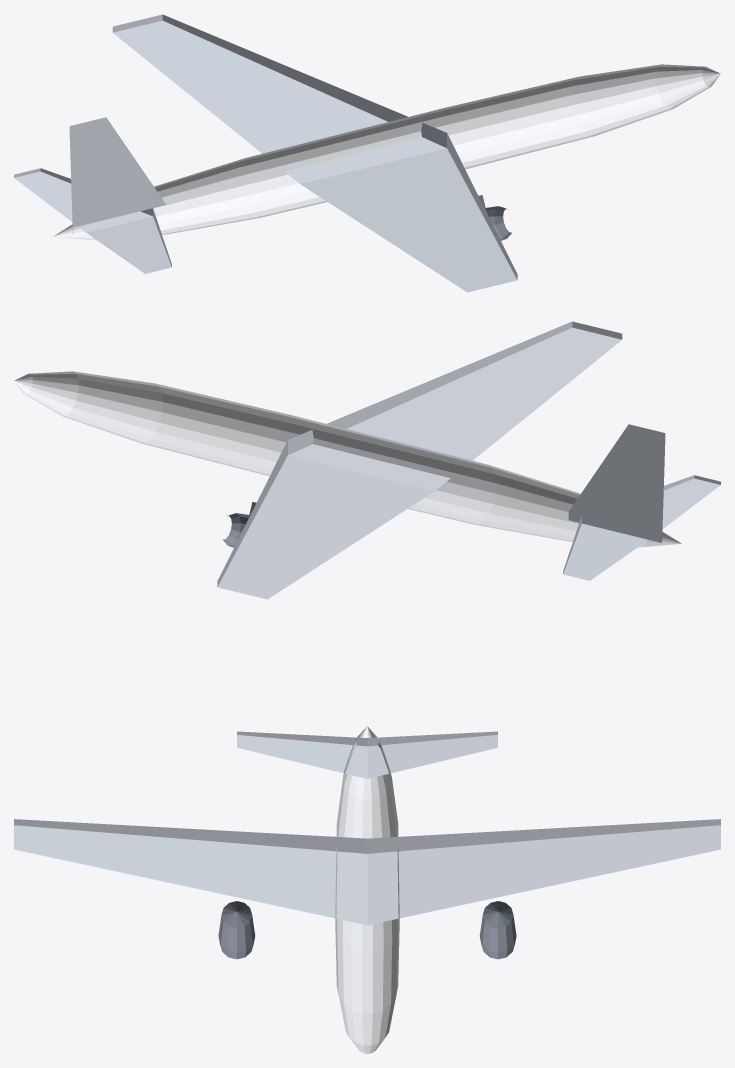
Rendered from airliner.glb.
The picture shows the model from 3 angles, top to bottom: view 1: azimuth 30°, elevation 25°; view 2: azimuth 150°, elevation 25°; view 3: azimuth 270°, elevation 25°; orthographic projection.
Parts seen in each view (by area): view 1: wings, fuselage, engines; view 2: wings, fuselage, engines; view 3: wings, fuselage, engines.
Part boxes in pixels (left/top/right/bottom): wings: left=14, top=14, right=517, bottom=292; fuselage: left=53, top=64, right=720, bottom=240; engines: left=478, top=195, right=511, bottom=240; wings: left=217, top=321, right=720, bottom=599; fuselage: left=14, top=371, right=681, bottom=547; engines: left=223, top=502, right=256, bottom=547; wings: left=14, top=731, right=720, bottom=925; fuselage: left=335, top=726, right=399, bottom=1053; engines: left=218, top=901, right=516, bottom=959.
Size of the model in its own units: 1 by 0.2214 by 0.92.
